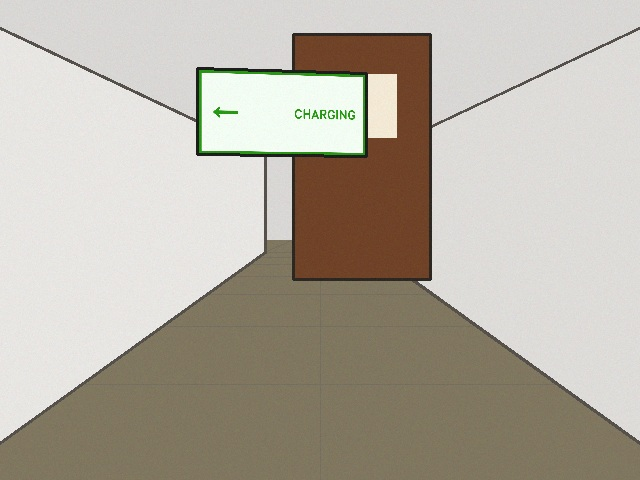directional_sign: (197, 68, 366, 156)
door: (293, 34, 430, 279)
